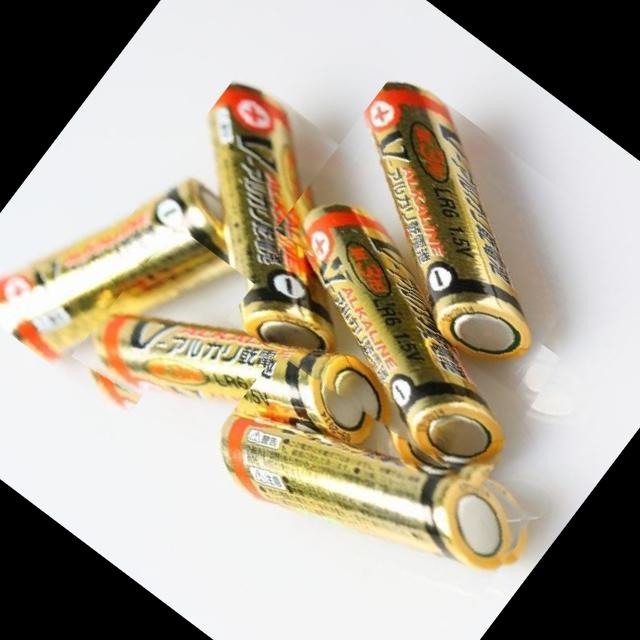Hazard: (276, 66, 630, 403), (198, 324, 550, 640), (228, 183, 574, 502), (111, 67, 445, 394), (72, 222, 411, 536), (0, 114, 270, 420)
